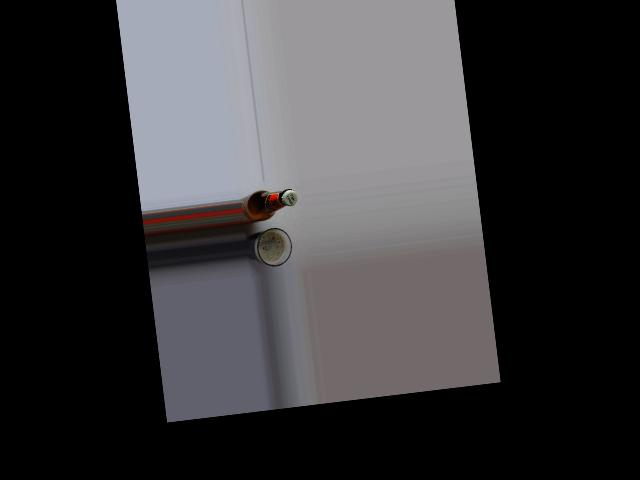beer: (239, 186, 299, 225)
